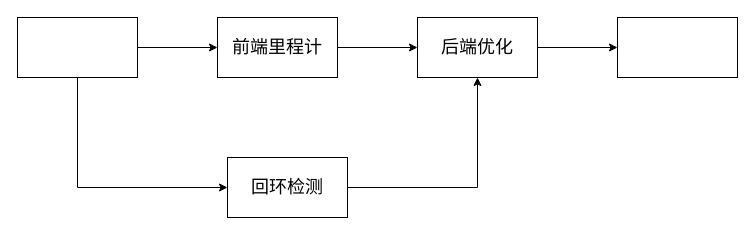
This 755x235 diagram has some shape labels left out. Here are the shapes that lost their labels. From the top down, the centre of each, then its label:
the point at 77,47: 传感器数据
the point at 677,47: 地图构建
